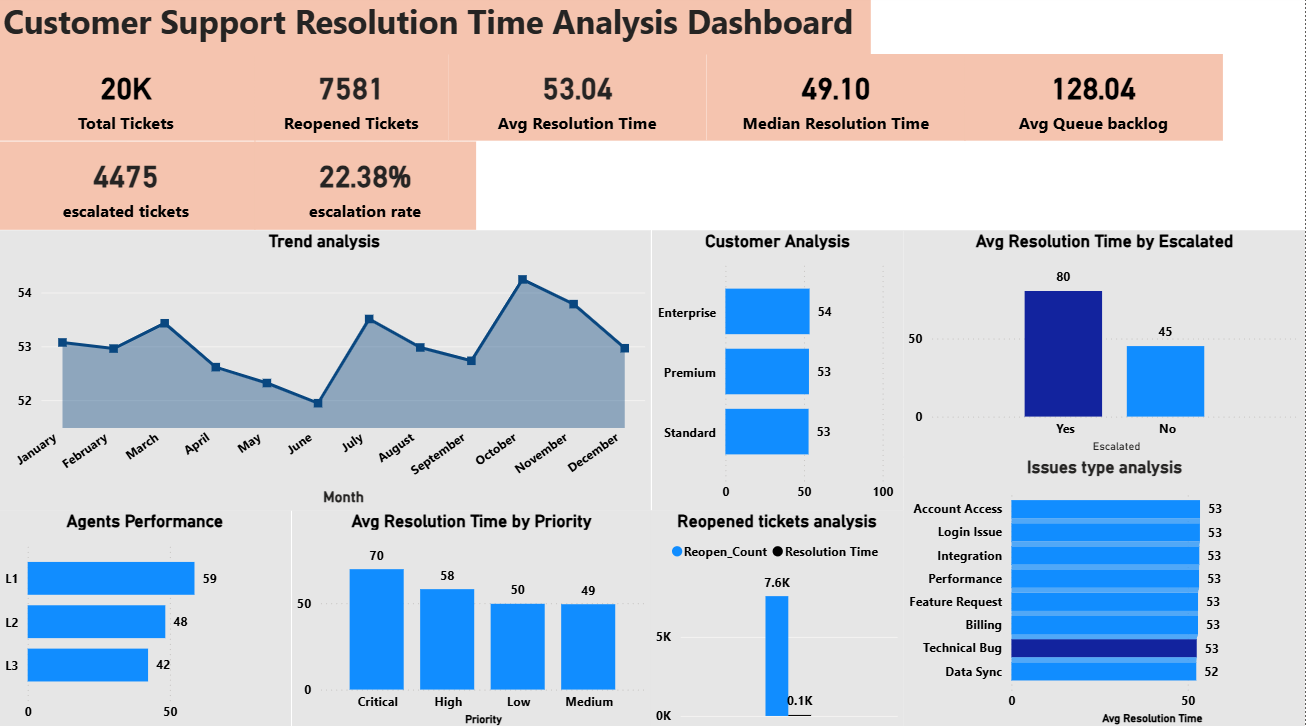

This screenshot's page, from the dashboard's own definition file:
{"tool":"powerbi","page":{"name":"customer support tickets","canvas":[1280,720],"ordinal":0},"visuals":[{"type":"textbox","box":[1.4,0,853.5,59],"z":0},{"type":"card","fields":{"Values":["customer_support_tickets_20000.Total Tickets"]},"box":[0,59,252.5,85.1],"z":1000},{"type":"card","fields":{"Values":["customer_support_tickets_20000.Reopened Tickets"]},"box":[252.5,59,189.4,85.1],"z":2000},{"type":"card","fields":{"Values":["customer_support_tickets_20000.Avg Resolution Time"]},"box":[441.9,59,252.5,85.1],"z":3000},{"type":"card","fields":{"Values":["customer_support_tickets_20000.Median Resolution Time"]},"box":[694.3,59,252.5,85.1],"z":4000},{"type":"card","fields":{"Values":["customer_support_tickets_20000.Avg Queue backlog"]},"box":[946.8,59,252.5,85.1],"z":5000},{"type":"card","fields":{"Values":["customer_support_tickets_20000.escalated tickets"]},"box":[0,144.1,252.5,86.4],"z":6000},{"type":"card","fields":{"Values":["customer_support_tickets_20000.escalation rate"]},"box":[252.5,144.1,216.8,86.4],"z":7000},{"type":"clusteredColumnChart","fields":{"Category":["customer_support_tickets_20000.Priority"],"Y":["customer_support_tickets_20000.Avg Resolution Time"]},"box":[288.2,505,351.3,215.4],"z":8000},{"type":"clusteredColumnChart","fields":{"Category":["customer_support_tickets_20000.Escalated"],"Y":["customer_support_tickets_20000.Avg Resolution Time"]},"box":[886.5,230.5,393.8,222.3],"z":9000},{"type":"clusteredColumnChart","title":"Reopened tickets analysis","fields":{"Y":["Sum(customer_support_tickets_20000.Reopen_Count)","customer_support_tickets_20000.Avg Resolution Time"]},"box":[639.5,505,247,215.4],"z":11000},{"type":"clusteredBarChart","title":"Agents  Performance","fields":{"Category":["customer_support_tickets_20000.Assigned_Agent_Level"],"Y":["customer_support_tickets_20000.Avg Resolution Time"]},"box":[1.4,505,286.8,215.4],"z":12000},{"type":"barChart","title":"Customer Analysis","fields":{"Category":["customer_support_tickets_20000.Customer_Tier"],"Y":["customer_support_tickets_20000.Avg Resolution Time"]},"box":[640.8,230.5,245.6,274.4],"z":13000},{"type":"barChart","title":"Issues type analysis","fields":{"Category":["customer_support_tickets_20000.Issue_Type"],"Y":["customer_support_tickets_20000.Avg Resolution Time"]},"box":[886.5,452.8,393.8,267.6],"z":14000},{"type":"lineChart","title":"Trend analysis","fields":{"Category":["customer_support_tickets_20000.Created_Date.Variation.Date Hierarchy.Month"],"Y":["customer_support_tickets_20000.Avg Resolution Time"]},"box":[1.4,230.5,638.1,274.4],"z":15000}]}

Visuals, with their boxes in screenshot pixels (x1, y1, x2, y2), scaled from the page's 1280x720 canvas onto the 1306x726 screenshot:
textbox: [1,0,872,59]
card - customer_support_tickets_20000.Total Tickets: [0,59,258,145]
card - customer_support_tickets_20000.Reopened Tickets: [258,59,451,145]
card - customer_support_tickets_20000.Avg Resolution Time: [451,59,709,145]
card - customer_support_tickets_20000.Median Resolution Time: [708,59,966,145]
card - customer_support_tickets_20000.Avg Queue backlog: [966,59,1224,145]
card - customer_support_tickets_20000.escalated tickets: [0,145,258,232]
card - customer_support_tickets_20000.escalation rate: [258,145,479,232]
clusteredColumnChart - customer_support_tickets_20000.Priority x customer_support_tickets_20000.Avg Resolution Time: [294,509,652,725]
clusteredColumnChart - customer_support_tickets_20000.Escalated x customer_support_tickets_20000.Avg Resolution Time: [905,232,1305,457]
"Reopened tickets analysis" clusteredColumnChart: [652,509,905,725]
"Agents  Performance" clusteredBarChart: [1,509,294,725]
"Customer Analysis" barChart: [654,232,904,509]
"Issues type analysis" barChart: [905,457,1305,725]
"Trend analysis" lineChart: [1,232,652,509]
